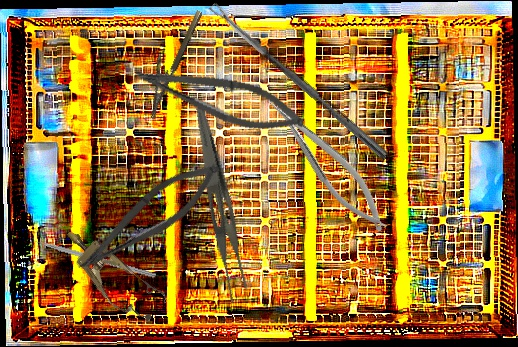Chopper: (23, 229, 160, 279)
Dressing Forceps: (173, 103, 260, 307)
Micro Scissor: (69, 146, 230, 290), (129, 58, 309, 141)
Needle Holder: (260, 83, 396, 242), (133, 3, 204, 120)
Speculum: (52, 216, 172, 331)
Surgical Spoon: (209, 1, 391, 161)
